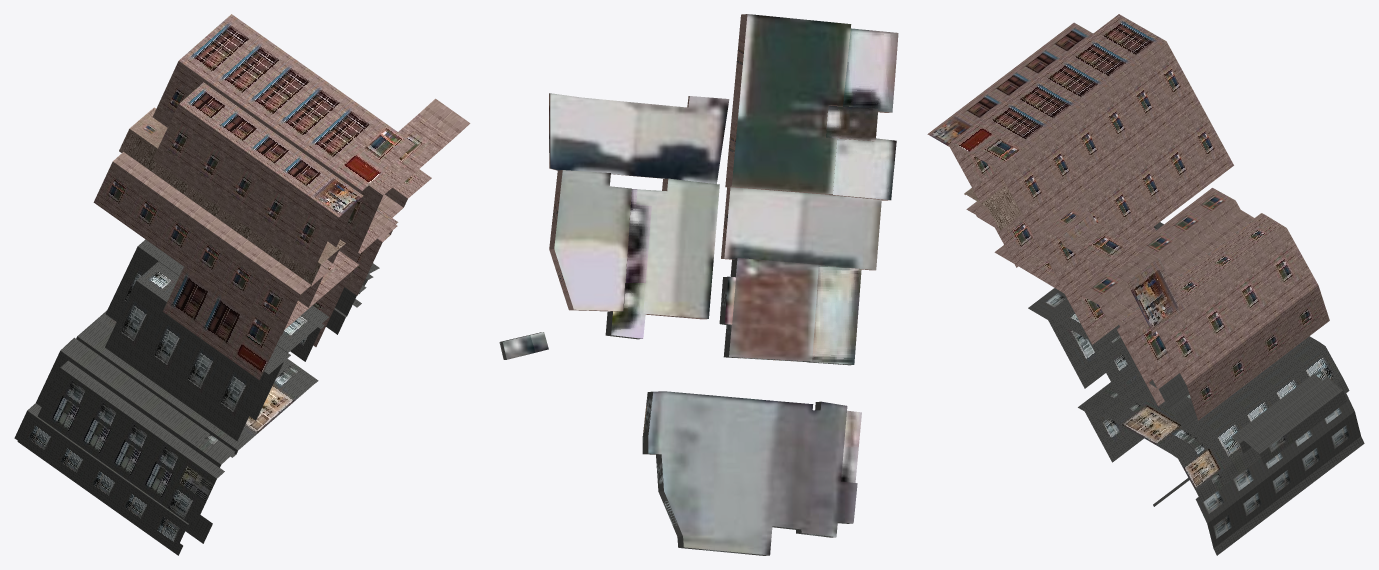
3 views of the same model, side by side, from view 1: azimuth 30°, elevation 25°; view 2: azimuth 150°, elevation 25°; view 3: azimuth 270°, elevation 25° (orthographic). The views are drawn at different scales.
Bounding box in the file's own units: 35.22 × 46.9 × 37.
Materials: 63 (63 with a texture image).
